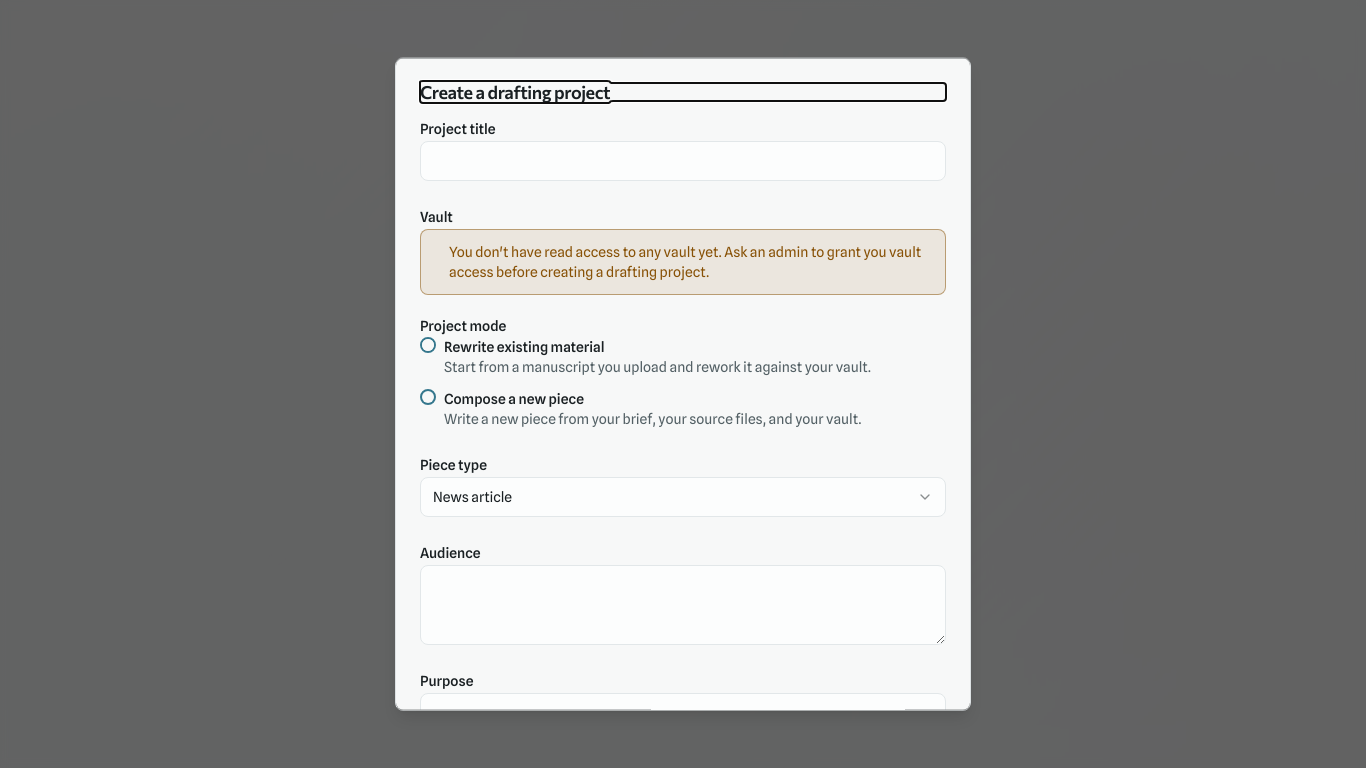
DraftCreateDialog › renders the honest unavailable message for a draft_room_disabled 503
The image size is (1366, 768).
Type "Q3 press release" into the field labelled "Project title" at (683, 161), box [420,141,946,181]
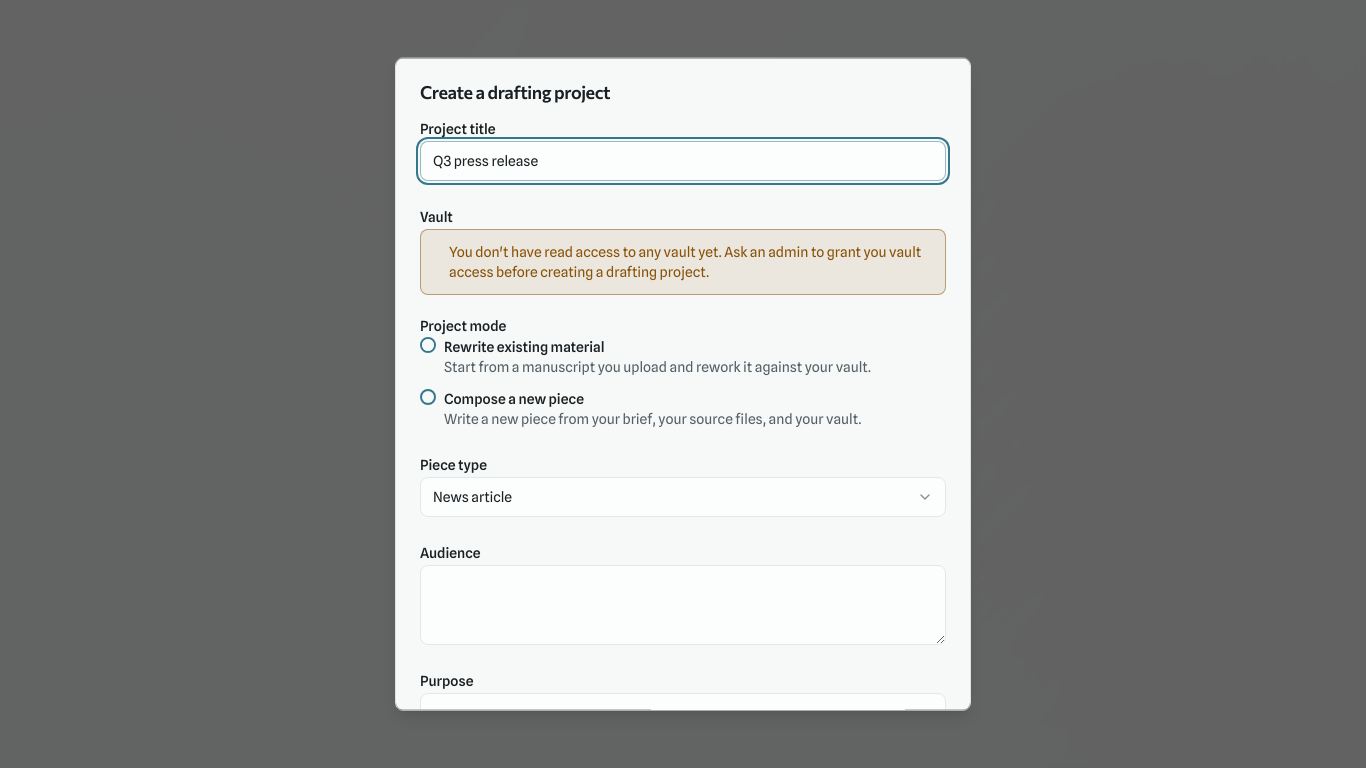
Type "Local reporters" into the text box labelled "Audience" at (683, 605), box [420,565,946,645]
(page scrolled)
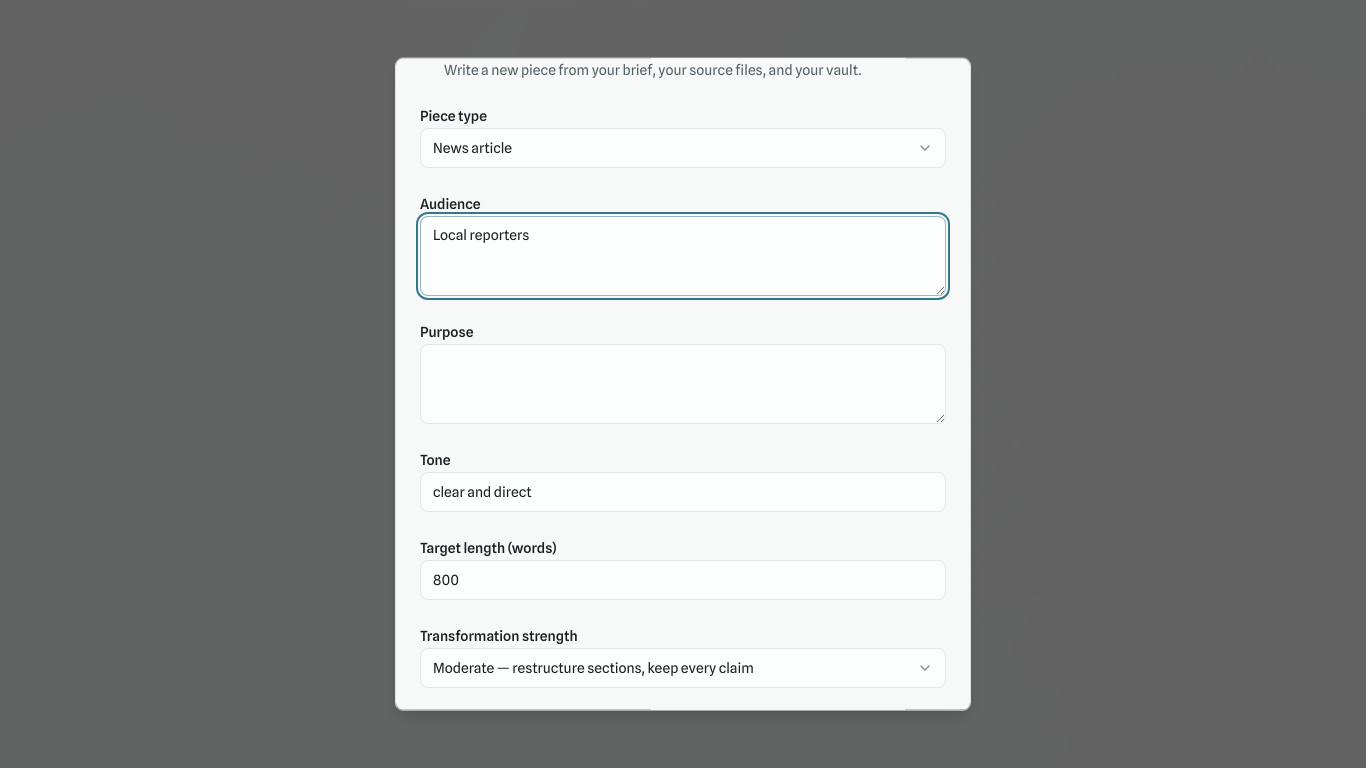
Type "Announce the Q3 results" into the text box labelled "Purpose" at (683, 384), box [420,344,946,424]
(page scrolled)
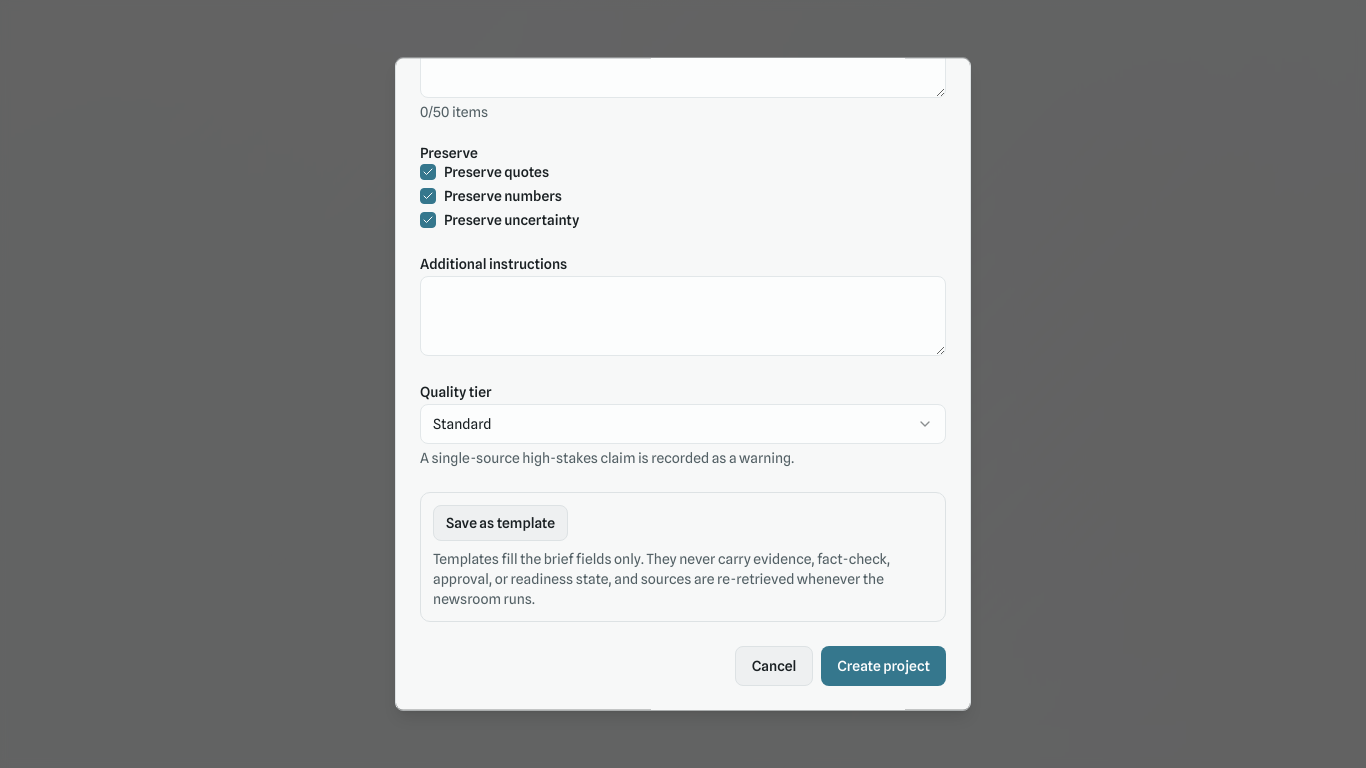
Click the button "Create project" at (884, 666), box [821,646,946,686]
(page scrolled)
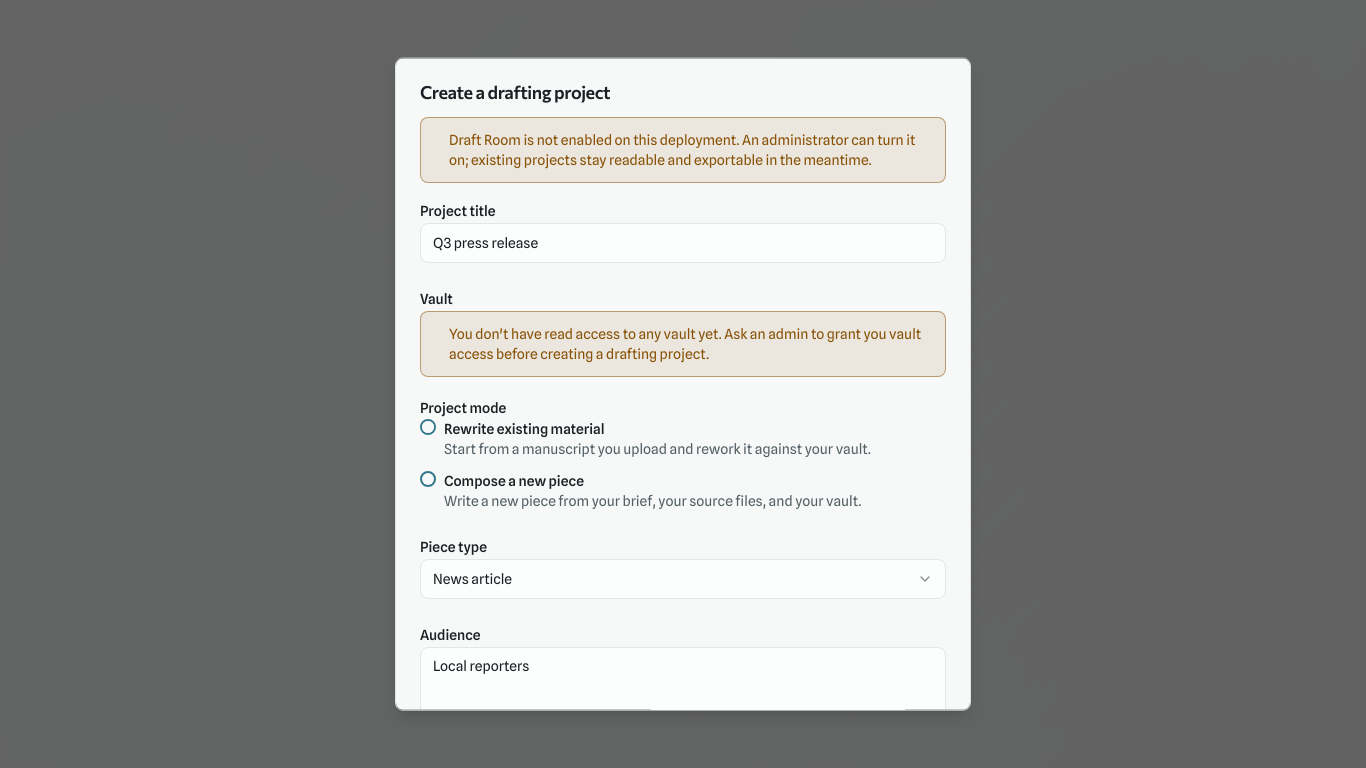
Now the text "Draft Room is not enabled on this deployment. An administrator can turn it on; existing projects stay readable and expor" is shown, box [449,132,915,168]
